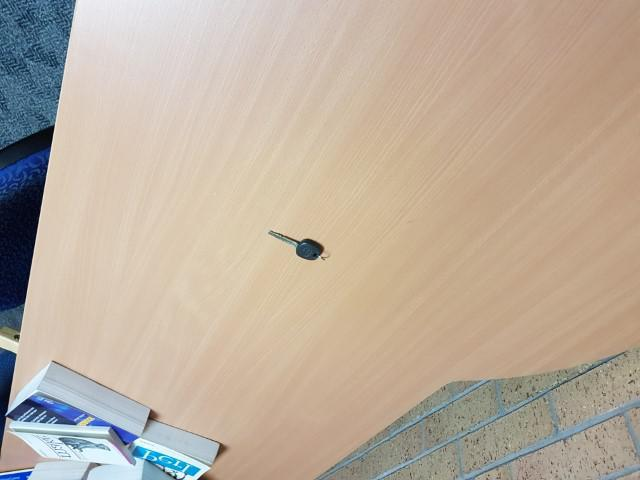key: (267, 231, 321, 261)
